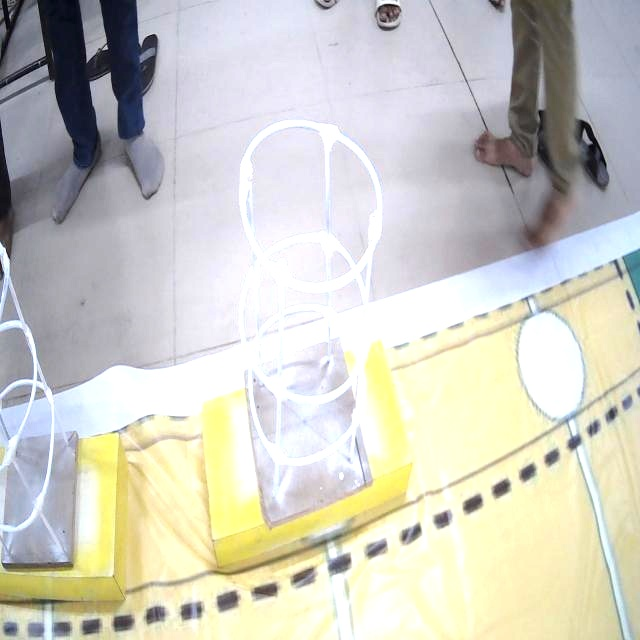silo: (221, 89, 390, 535)
